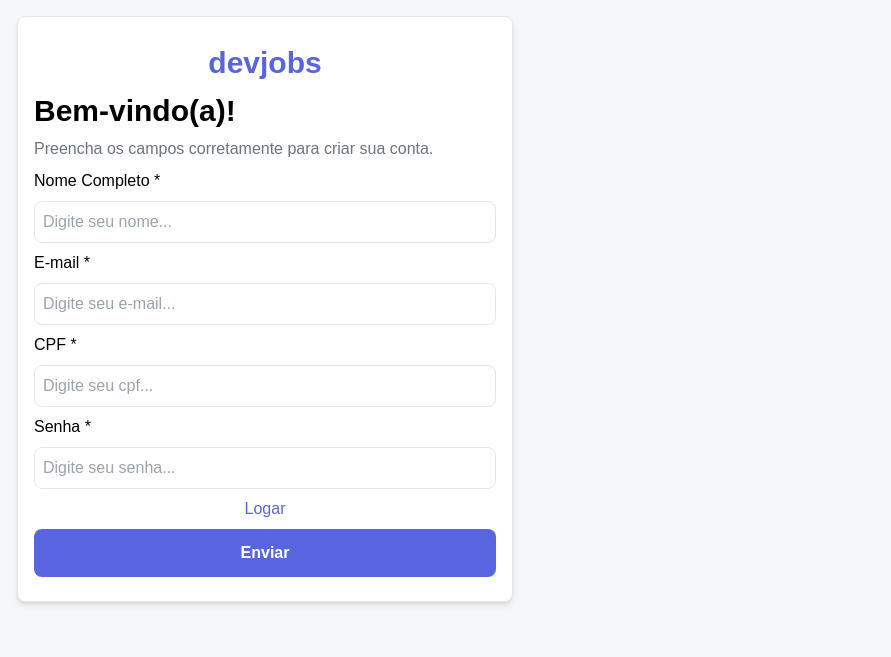
Test case: Register tests › It should return an error if the CPF already exists
Type "test name" into the field with id "name" at (265, 222), box [34, 201, 496, 243]
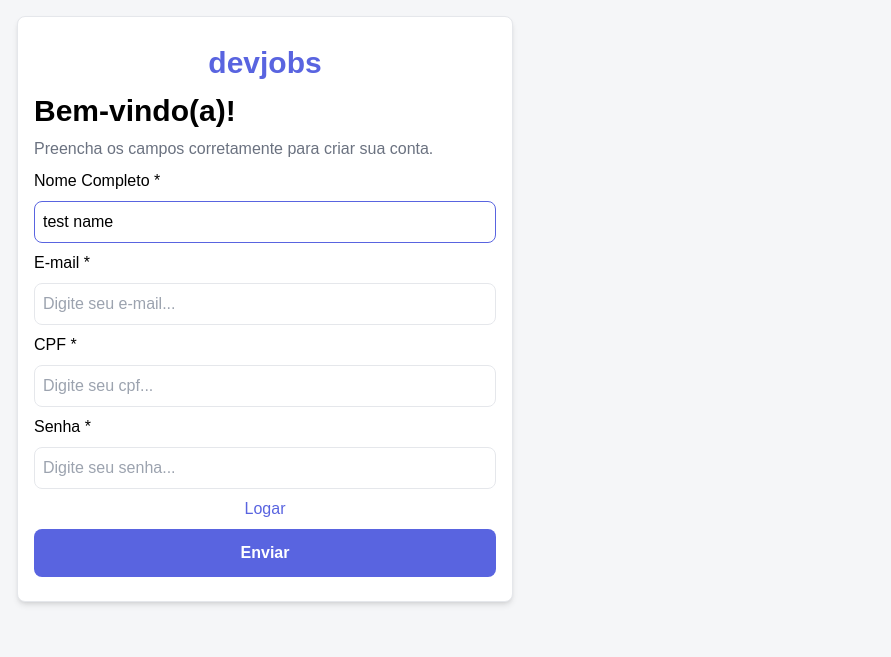
Type "test@gmail.com" into the field with id "email" at (265, 304), box [34, 283, 496, 325]
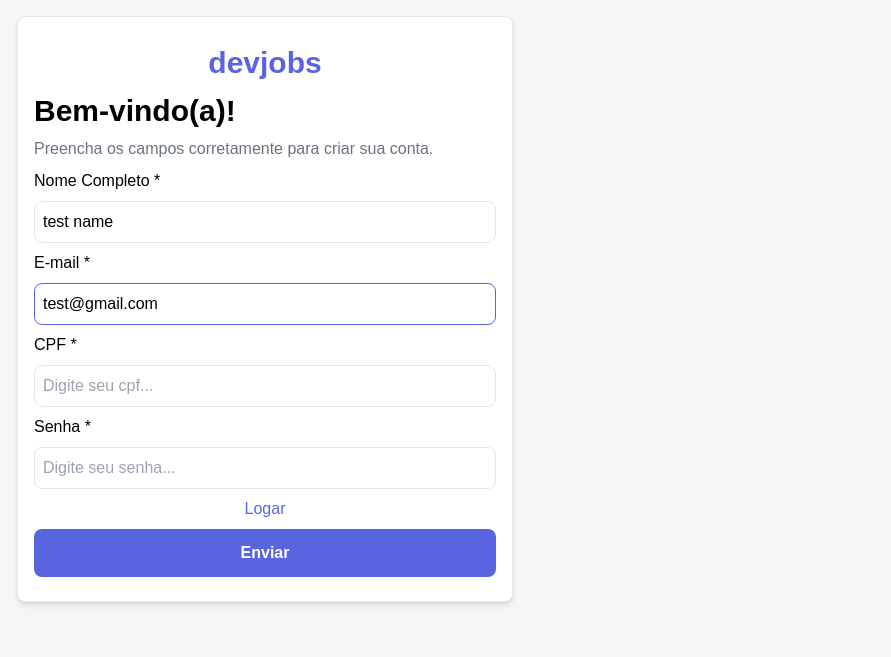
Type "00000000000" into the field with id "cpf" at (265, 386), box [34, 365, 496, 407]
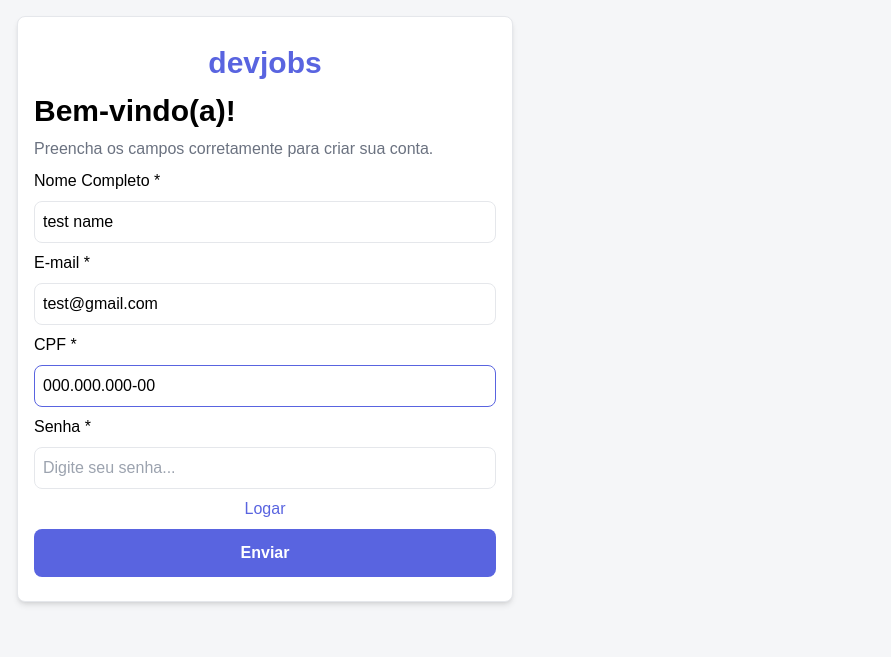
Type "123456" into the password field labelled "Senha *" at (265, 468), box [34, 447, 496, 489]
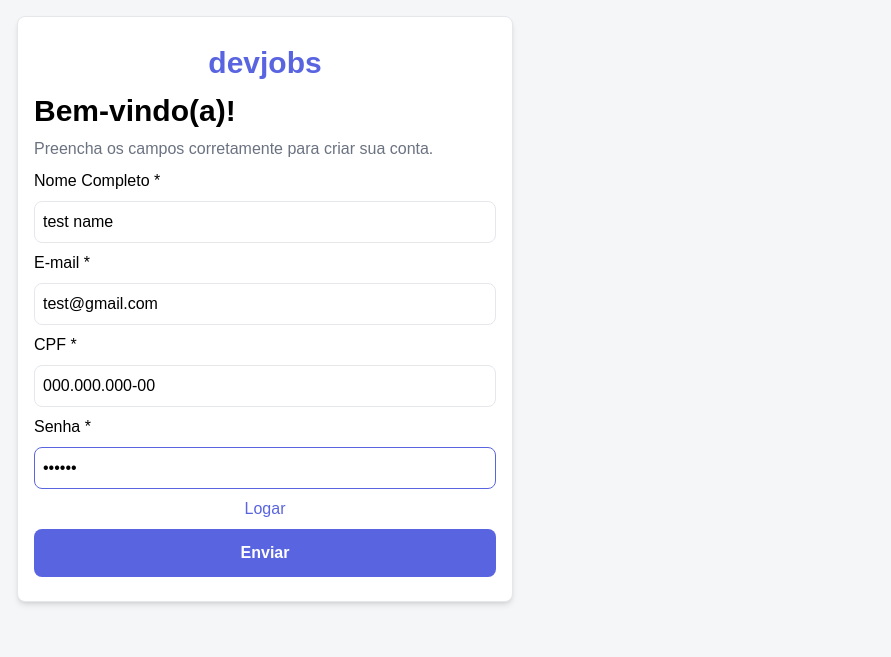
Submit the form, box [17, 16, 513, 602]
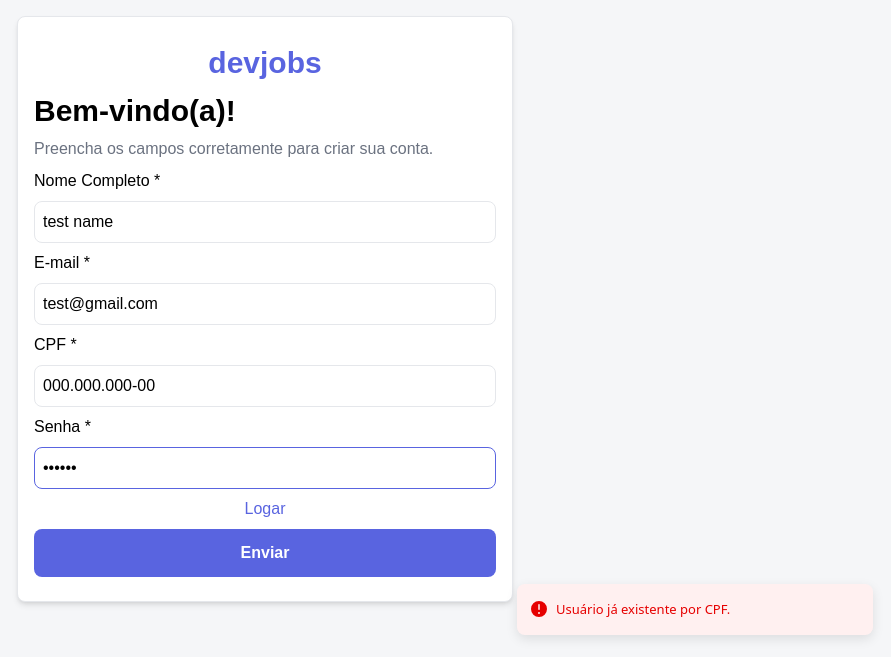
Expected: the text "Usuário já existente por CPF." is shown, [556, 600, 730, 619]
